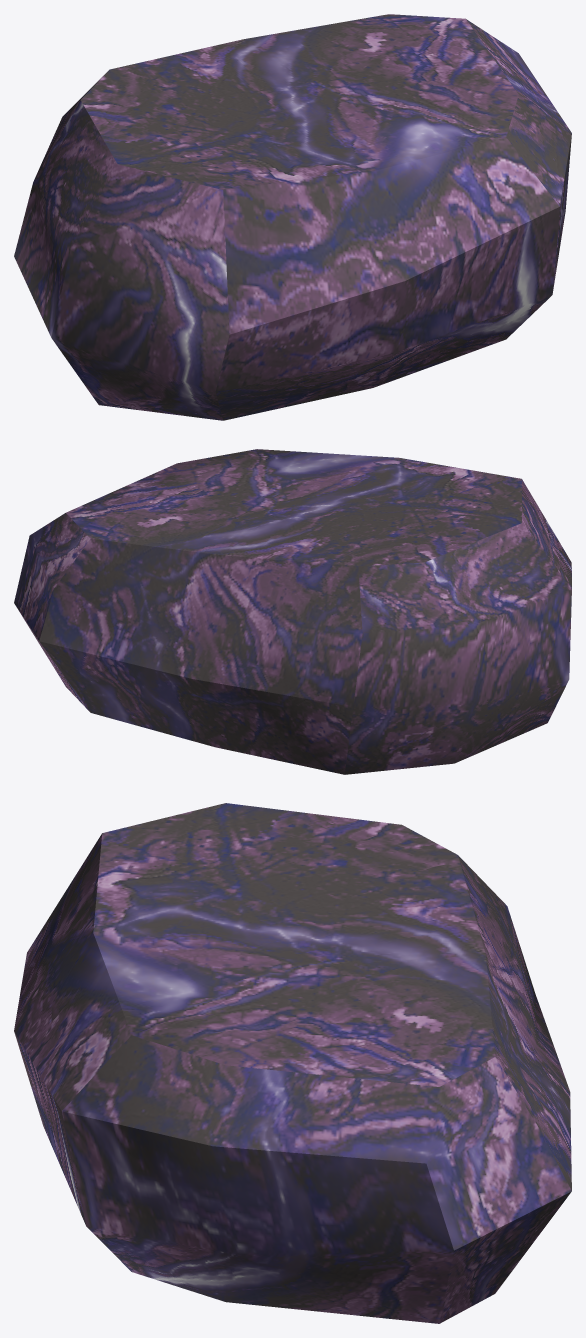
The model's file is Sea_Large_Rock3_SM.fbx.
The picture shows the model from 3 angles, top to bottom: view 1: azimuth 30°, elevation 25°; view 2: azimuth 150°, elevation 25°; view 3: azimuth 270°, elevation 25°; orthographic projection. The views are drawn at different scales.
Visible parts, largest first — view 1: Sea_Large_Rock3_SM; view 2: Sea_Large_Rock3_SM; view 3: Sea_Large_Rock3_SM.
Boxes of the visible parts, box(x1,y1,x2,y2) form: Sea_Large_Rock3_SM: box(14, 14, 571, 420); Sea_Large_Rock3_SM: box(14, 449, 571, 774); Sea_Large_Rock3_SM: box(14, 803, 571, 1323).
Size of the model in its own units: 1786 by 711 by 1331.
Materials: 1 (1 with a texture image).
